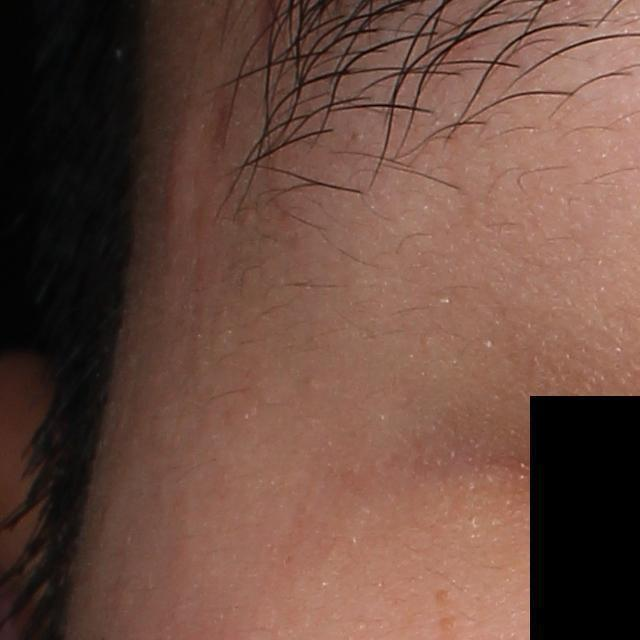melasma: (428, 588, 453, 607)
